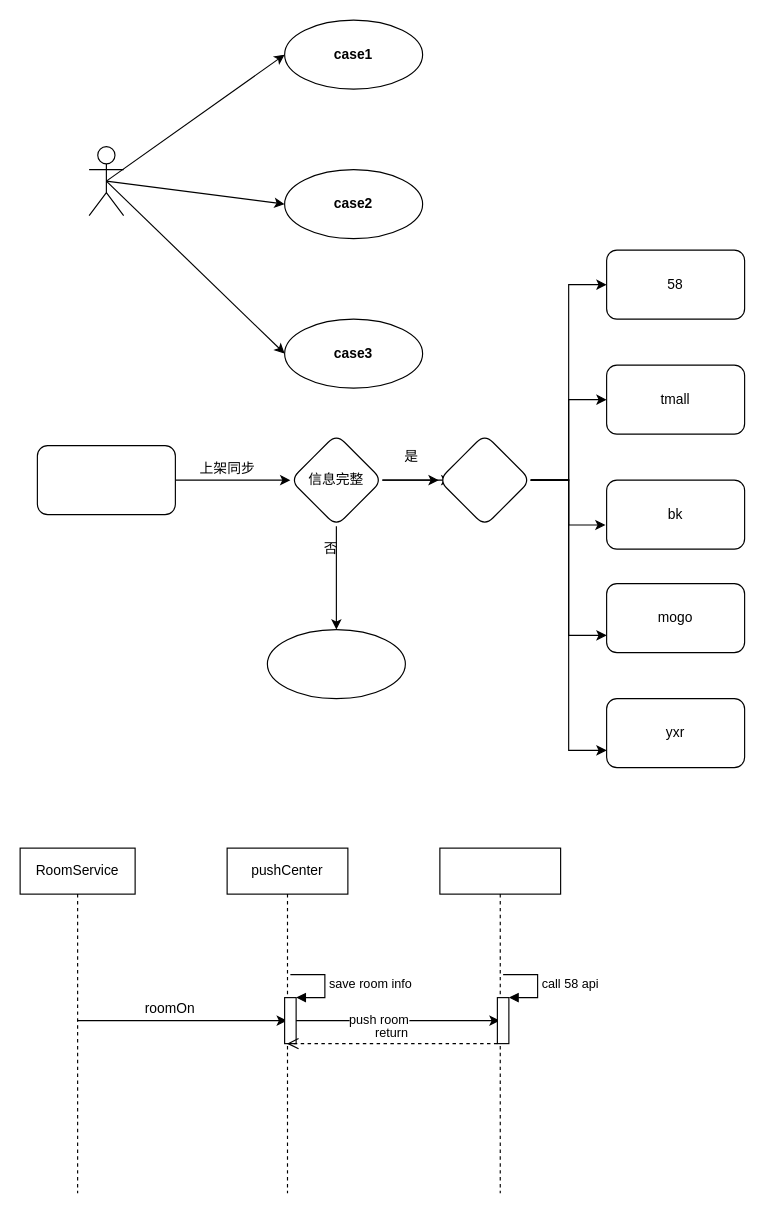
The diagram is 765 pixels wide and 1213 high, and some of its shapes have lost their labels. The centre of each missing label's shape, as x and y in pixels:
"Actor" belongs at [106,180].
"venter_58" belongs at [500,1020].
"房源" belongs at [105,479].
"结束发房" belongs at [335,663].
"选择渠道" belongs at [484,479].
